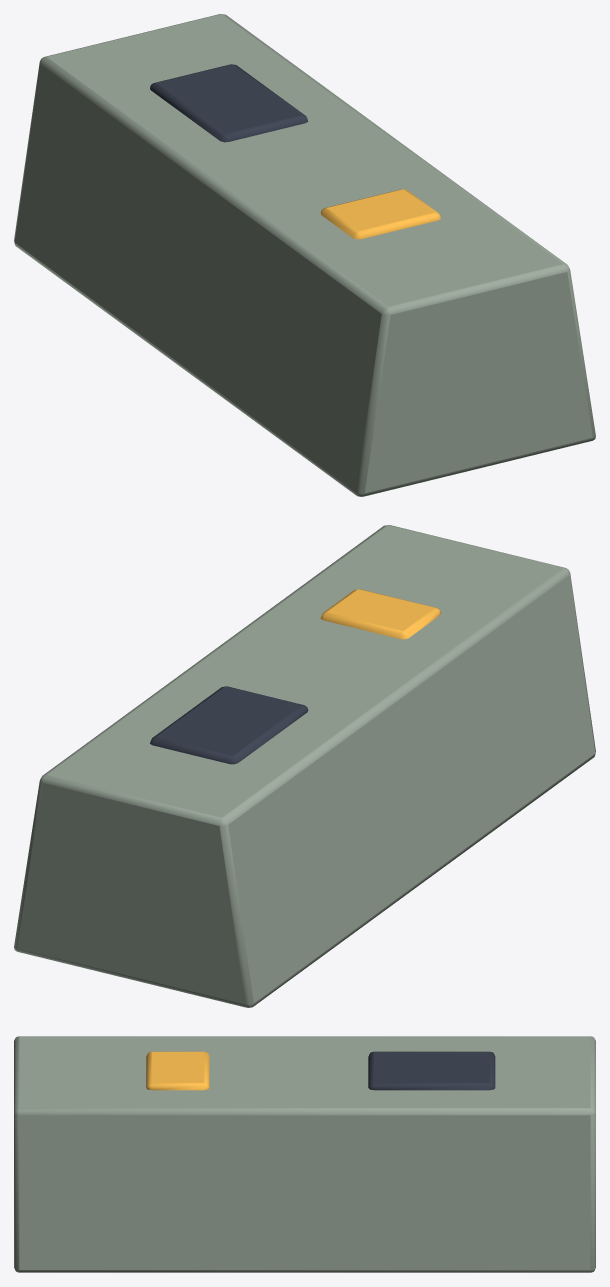
Rendered from ware_strahlstahl.fbx.
The picture shows the model from 3 angles, top to bottom: view 1: azimuth 30°, elevation 25°; view 2: azimuth 150°, elevation 25°; view 3: azimuth 270°, elevation 25°; orthographic projection. The views are drawn at different scales.
Visible parts, largest first — view 1: ware_strahlstahl_Koerper; view 2: ware_strahlstahl_Koerper; view 3: ware_strahlstahl_Koerper.
Boxes of the visible parts, x1,y1,x2,y2 form: ware_strahlstahl_Koerper: (14,14,595,496); ware_strahlstahl_Koerper: (14,525,595,1007); ware_strahlstahl_Koerper: (14,1036,595,1272).
Size of the model in its own units: 0.2185 by 0.165 by 0.55.
